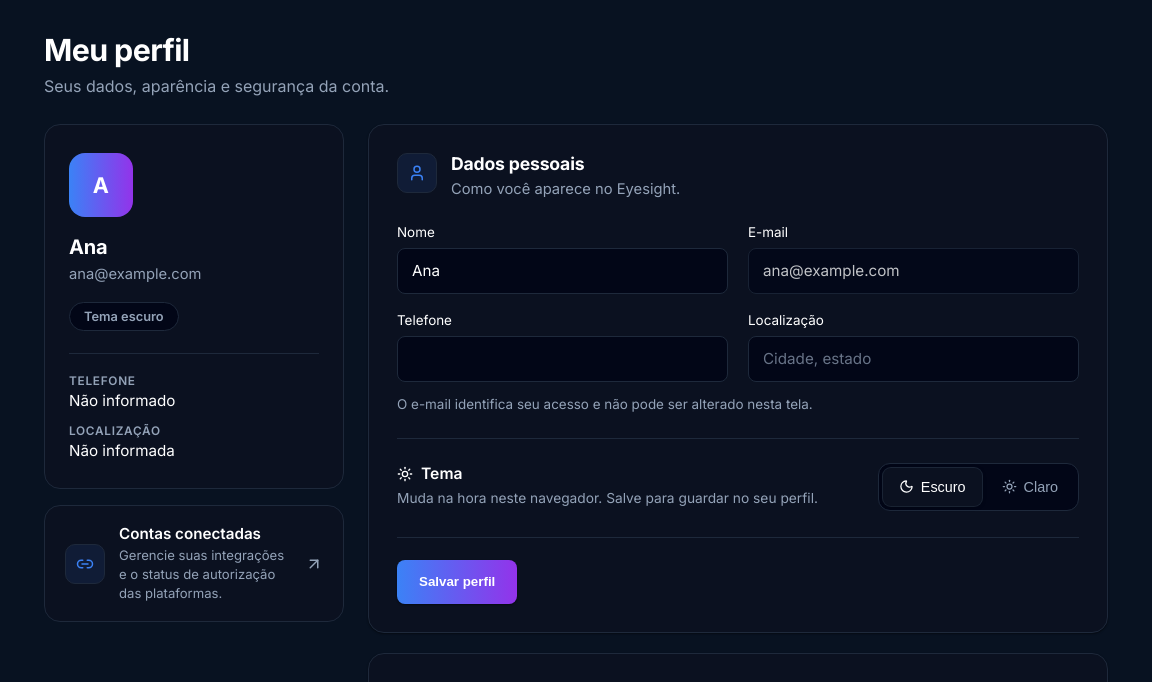
Test case: persists contact data and announces updated name to the same tab
The width and height of the screenshot is (1152, 682).
Replace the text in the field labelled "Nome" with "Ana Silva". click: coordinates (562, 271)
box: [397,248,728,294]
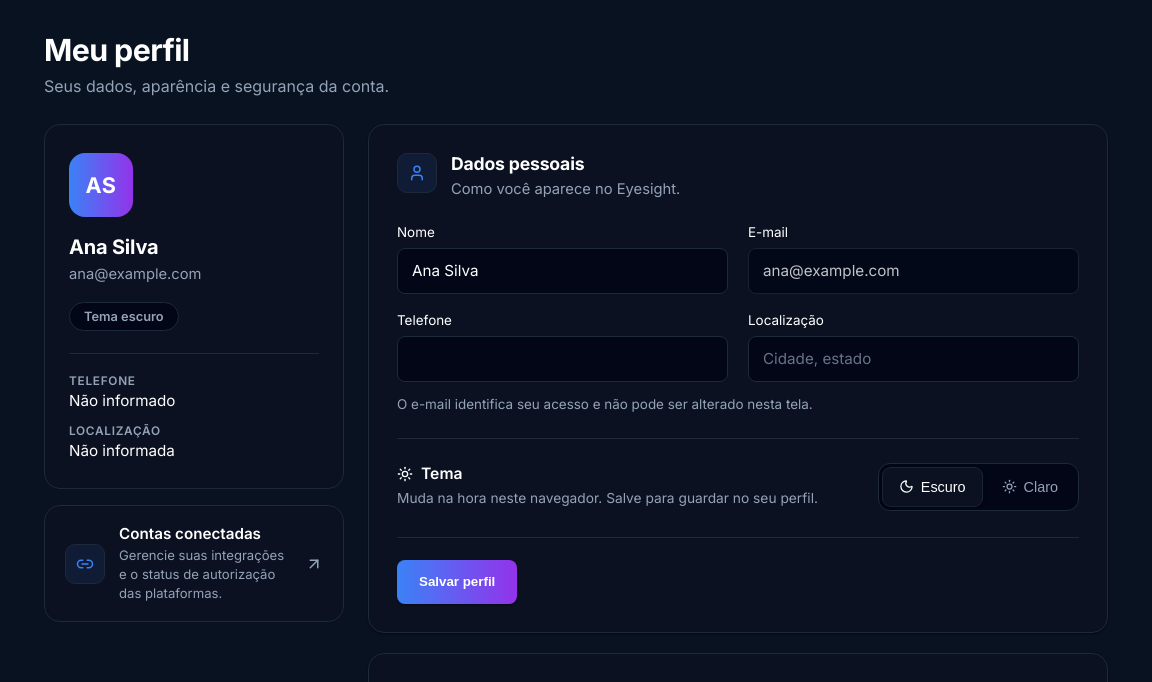
Type "123" into the field labelled "Telefone". click: coordinates (562, 359)
box: [397,336,728,382]
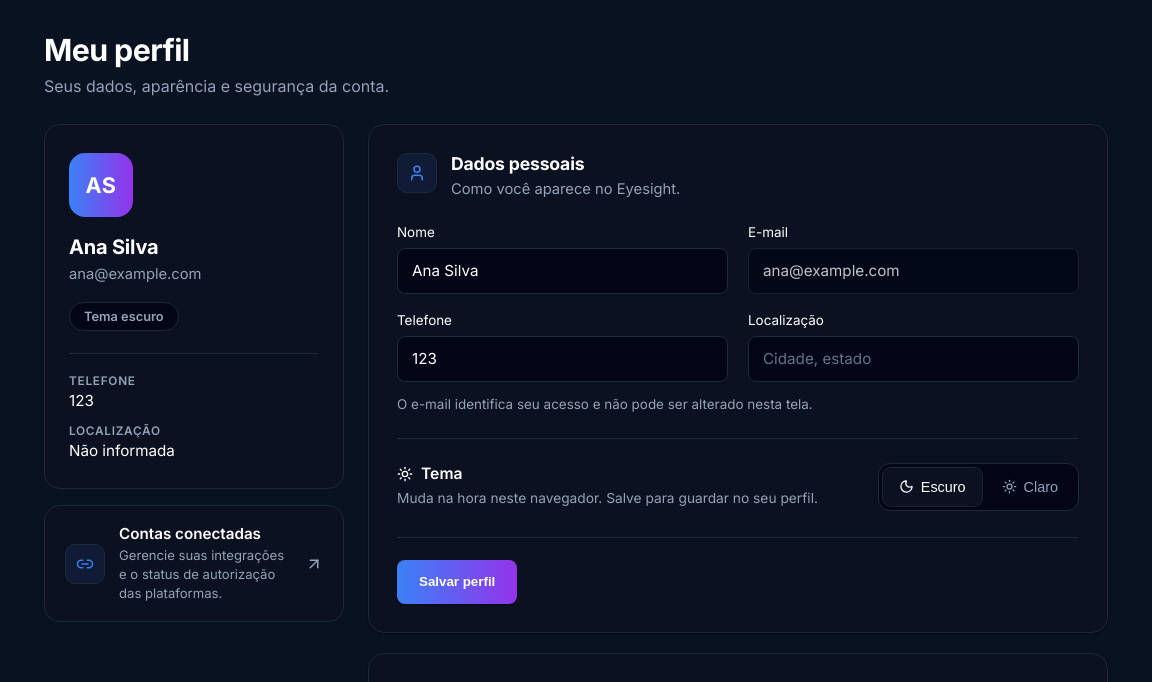
Click the button "Salvar perfil". click: coordinates (457, 582)
box: [397,560,517,604]
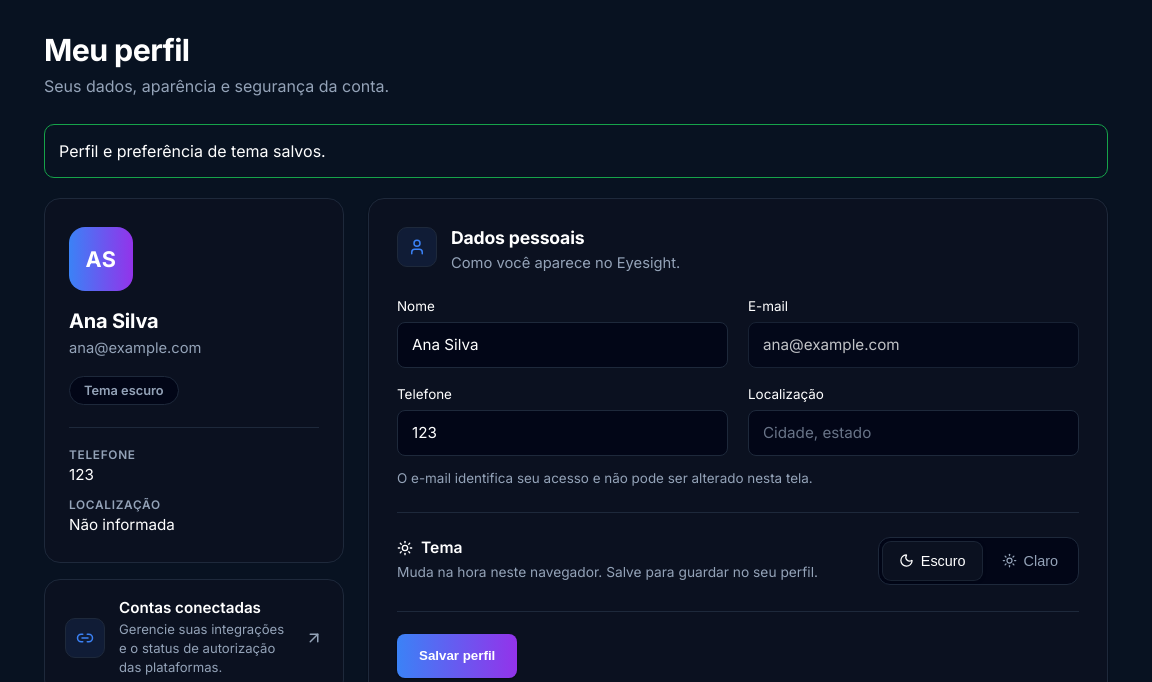
Expected: the heading "Ana Silva" is shown, [69,309,158,333]
Expected: the text "Perfil e preferência de tema salvos." is shown, [44,124,1108,178]
